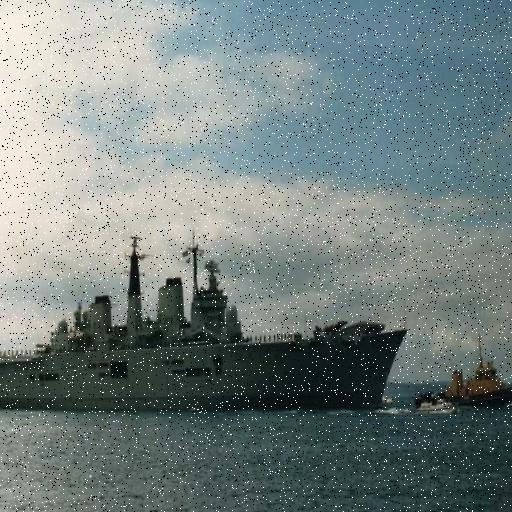Portanaves: (1, 227, 411, 417)
